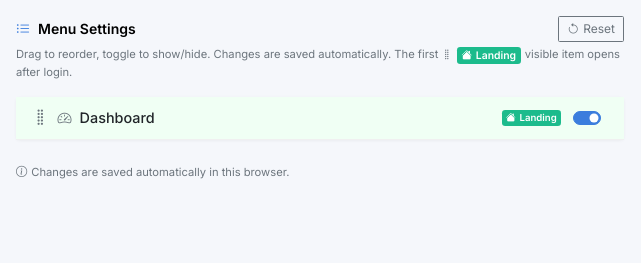
Test: SidebarSettings smoke test › at-least-one-visible warning appears when all items are toggled off
Click the switch: point(587, 118) x1=573 y1=111 x2=601 y2=125
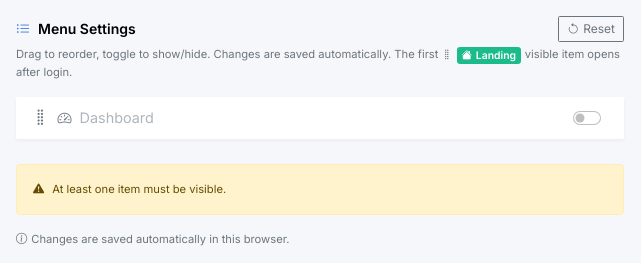
Check: the text "At least one item must be visible." is shown, box x1=16 y1=164 x2=624 y2=215
